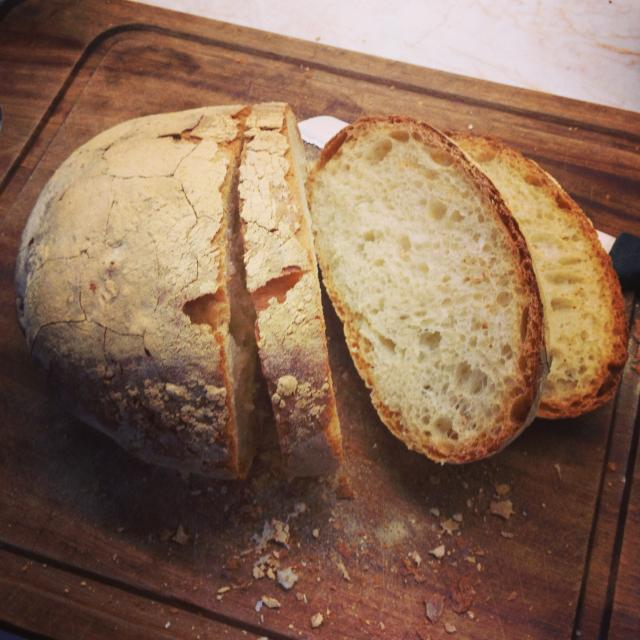Maltese-Bread: (15, 102, 342, 479)
